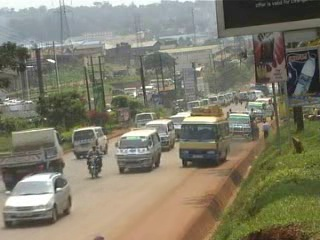Car: (3, 168, 73, 229), (172, 109, 194, 123)
Motorcycle: (83, 146, 103, 180)
